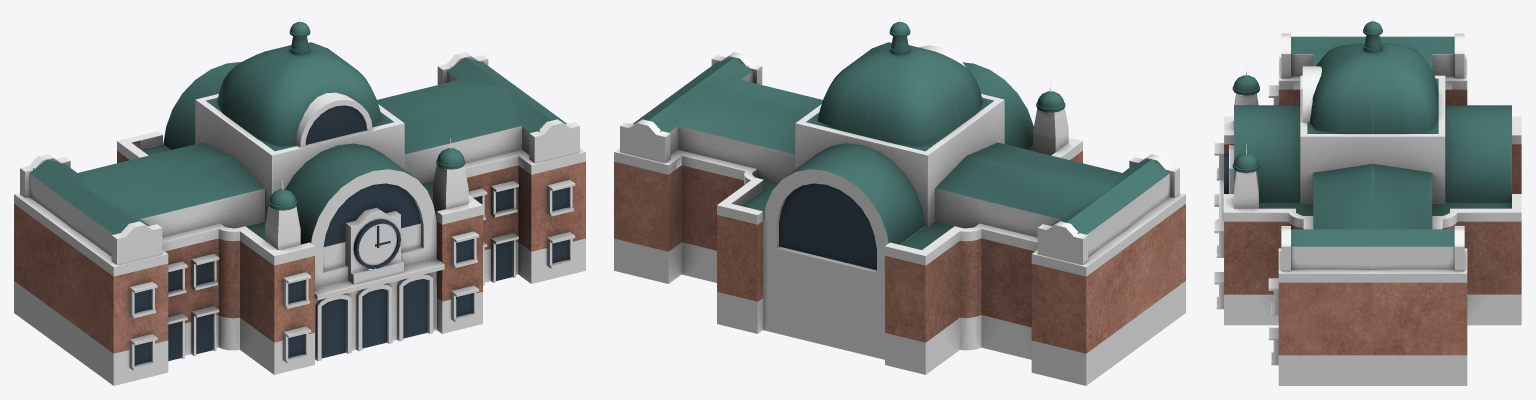
File: Seoulstation_color.glb
3 views of the same model, side by side, from view 1: azimuth 30°, elevation 25°; view 2: azimuth 150°, elevation 25°; view 3: azimuth 270°, elevation 25° (orthographic). The views are drawn at different scales.
Parts seen in each view (by area): view 1: Seoulstation.001; view 2: Seoulstation.001; view 3: Seoulstation.001.
Boxes of the visible parts, x1,y1,x2,y2 form: Seoulstation.001: [14, 18, 585, 385]; Seoulstation.001: [614, 18, 1185, 385]; Seoulstation.001: [1214, 17, 1521, 385].
Bounding box in the file's own units: 1.04 × 0.585 × 0.62.
4 materials, 4 textured.
